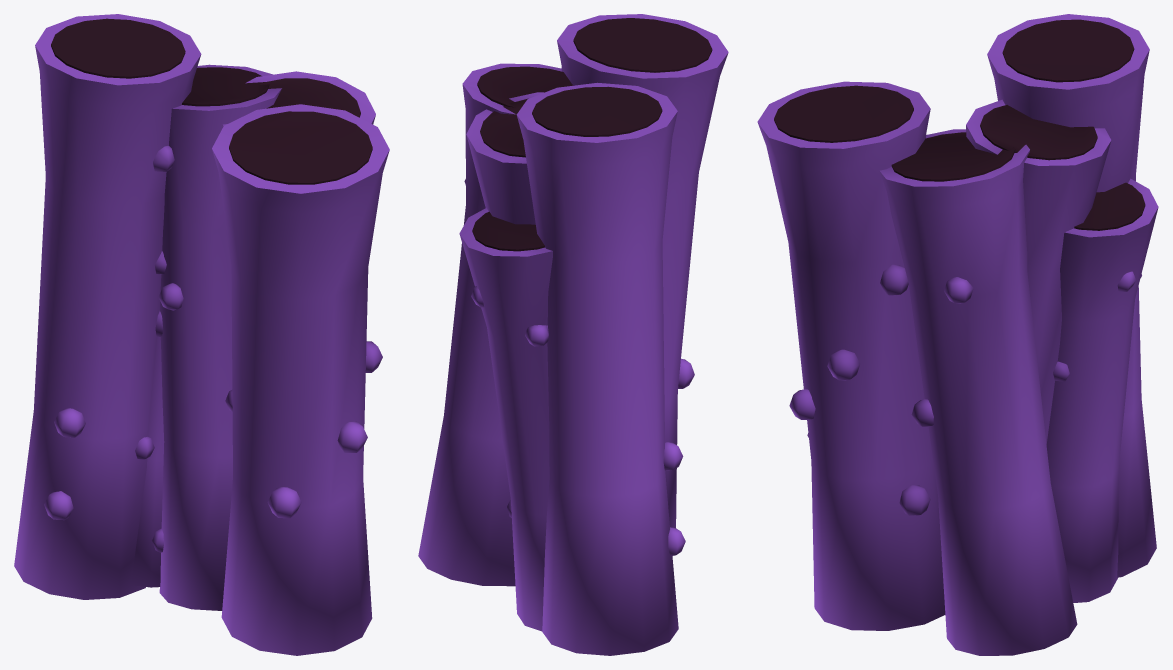
Rendered from sponge_cluster.glb.
3 views of the same model, side by side, from view 1: azimuth 30°, elevation 25°; view 2: azimuth 150°, elevation 25°; view 3: azimuth 270°, elevation 25° (orthographic). The views are drawn at different scales.
Visible parts, largest first — view 1: sponge_cluster_mesh; view 2: sponge_cluster_mesh; view 3: sponge_cluster_mesh.
Part boxes in pixels (x1,y1,x2,y2): sponge_cluster_mesh: [14, 14, 389, 655]; sponge_cluster_mesh: [418, 14, 728, 655]; sponge_cluster_mesh: [757, 14, 1158, 655].
Size of the model in its own units: 0.6299 by 1.11 by 0.7731.
